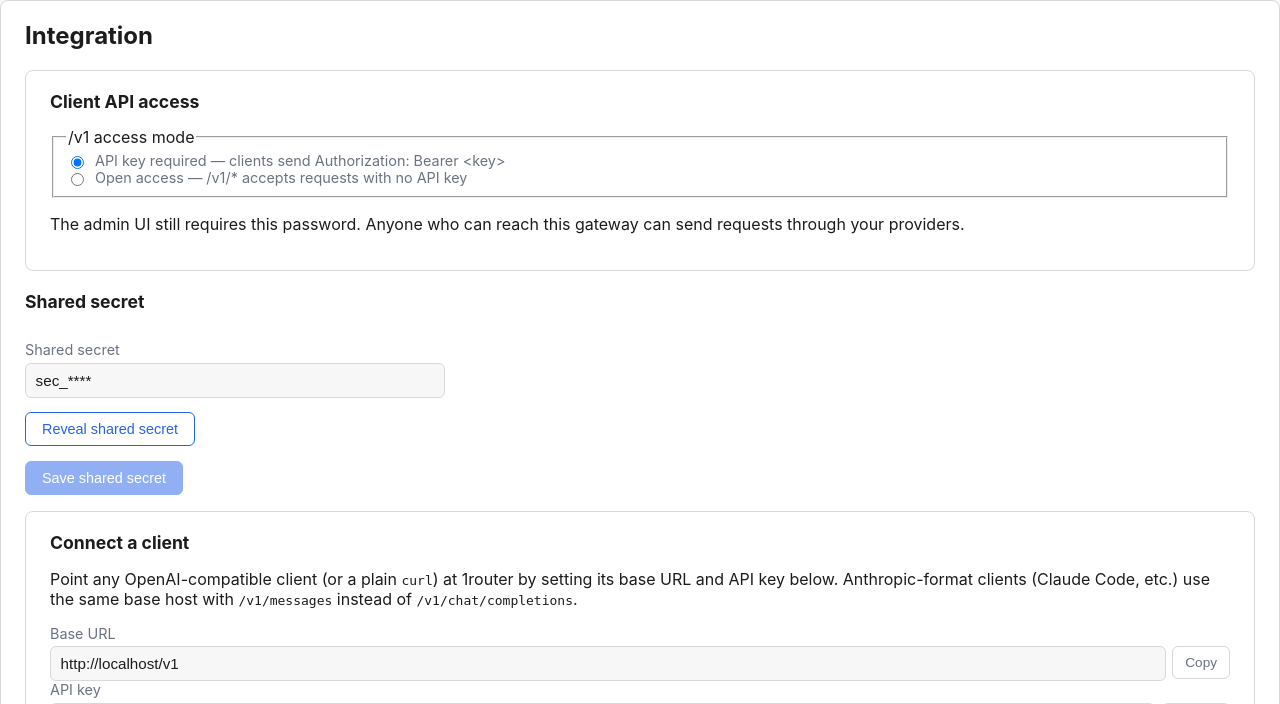
Scenario: Integration › loads_masked_secret_and_reveals_real_value
Expected: the field labelled "Shared secret" is disabled, [25,363,445,398]
Click the button "Reveal shared secret": (110, 429) [25,412,195,446]
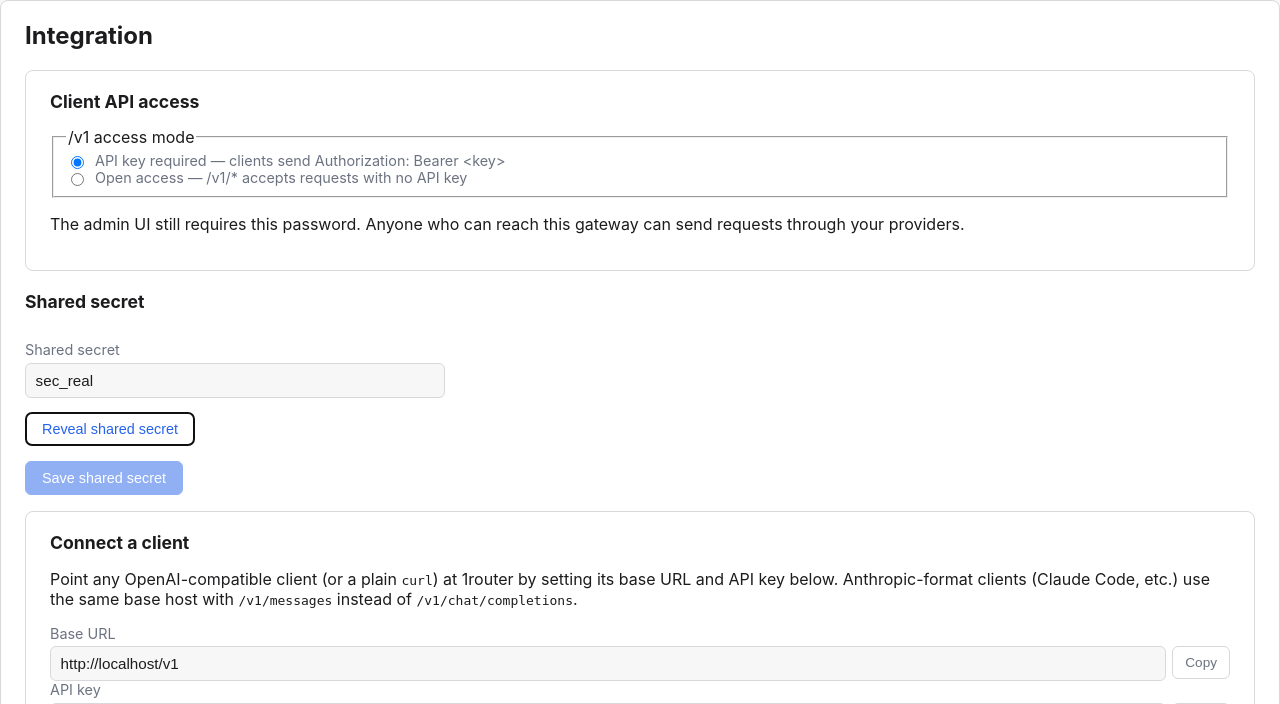
Expected: the field labelled "Shared secret" holds "sec_real", [25,363,445,398]
Expected: the field labelled "Shared secret" is enabled, [25,363,445,398]
